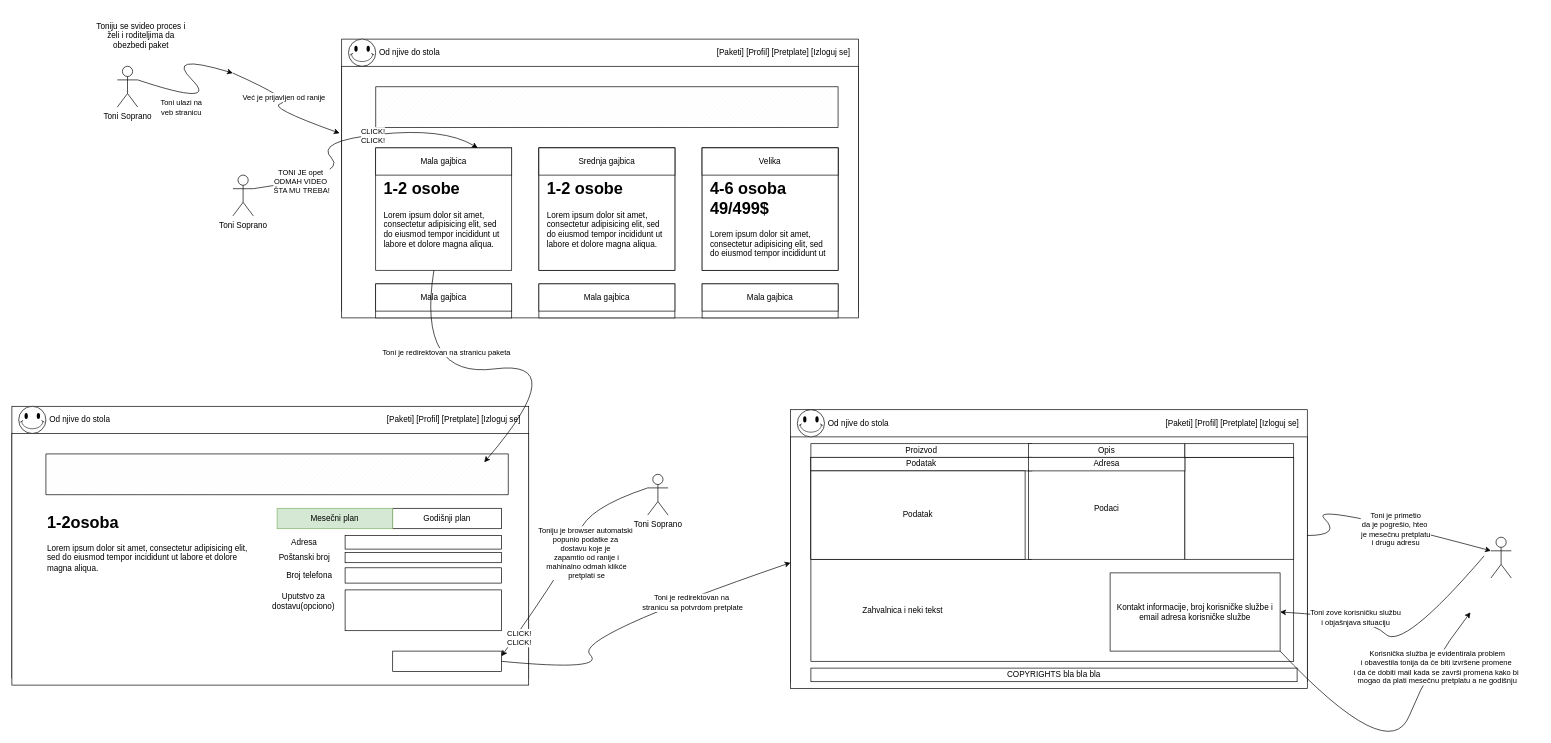
Image size: 1551x743. Some labels were removed from this diagram. Each missing label, with the centre of its shape:
"Cena" goes at pixel 1239 450.
"DOBRODOŠLI - Pretplatite se na paket dostave sveže domaće hrane" goes at pixel 606 107.
"PAKET - ZA NAS" goes at pixel 276 474.
"Pretplati se" goes at pixel 447 661.
"Toni Soprano (Ali sa dozom smora)" goes at pixel 1500 557.
